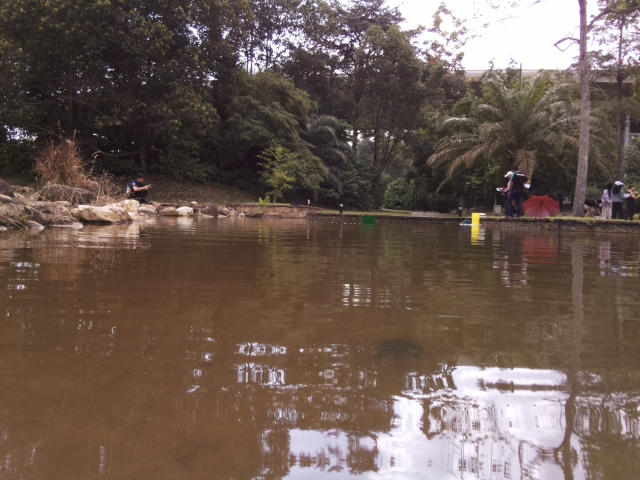obstacle: (361, 214, 377, 226)
